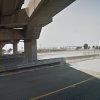Bridge: (3, 3, 76, 58)
